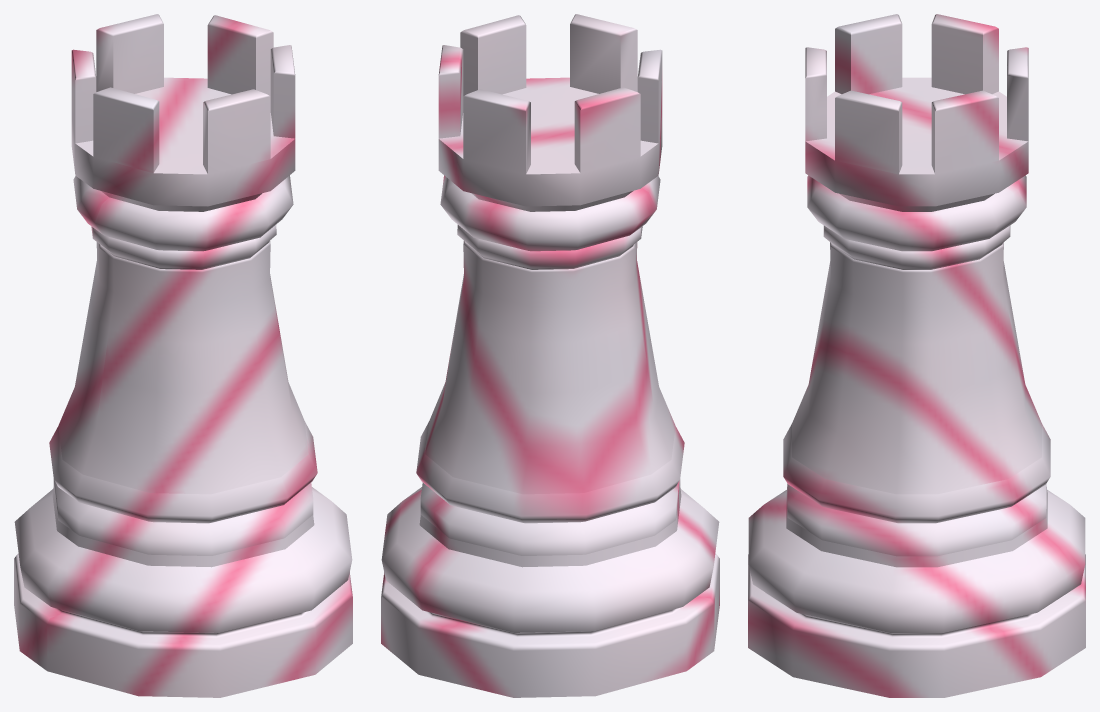
File: item-3-4.glb
The picture shows the model from 3 angles, left to right: view 1: azimuth 30°, elevation 25°; view 2: azimuth 150°, elevation 25°; view 3: azimuth 270°, elevation 25°; orthographic projection.
Parts seen in each view (by area): view 1: BlackTower; view 2: BlackTower; view 3: BlackTower.
Boxes of the visible parts, <box> form: BlackTower: <box>14,14,352,697</box>; BlackTower: <box>381,14,719,697</box>; BlackTower: <box>748,14,1085,697</box>.
Bounding box in the file's own units: 0.092 × 0.1651 × 0.0897.
Materials: 1 (1 with a texture image).
